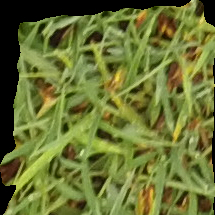grass: (1, 1, 214, 214)
